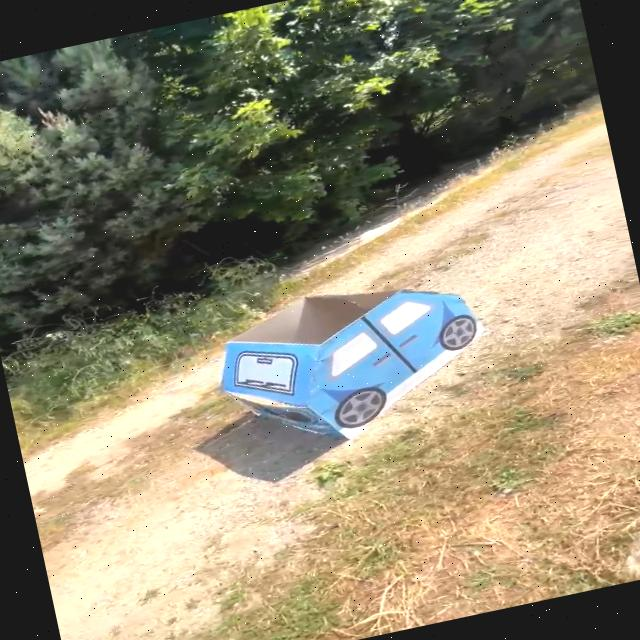blue_car: (189, 243, 516, 481)
